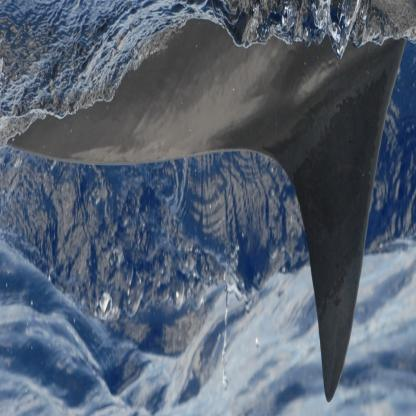dolphin-whale: (6, 14, 414, 405)
